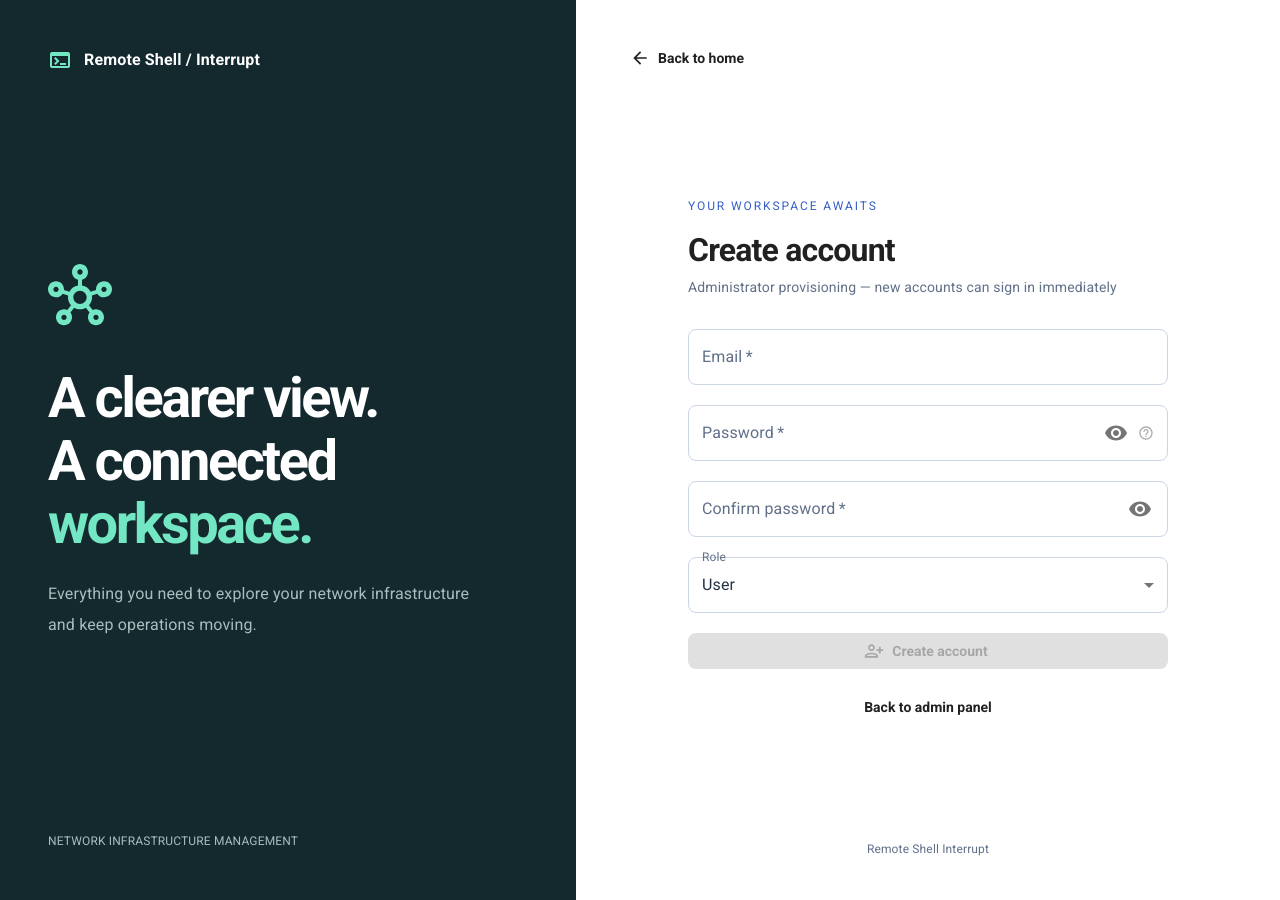
administrator account provisioning › rejects a mismatched password confirmation
The image size is (1280, 900).
Type "new@example.com" into the field labelled "Email *" at (928, 357), box [688, 329, 1168, 385]
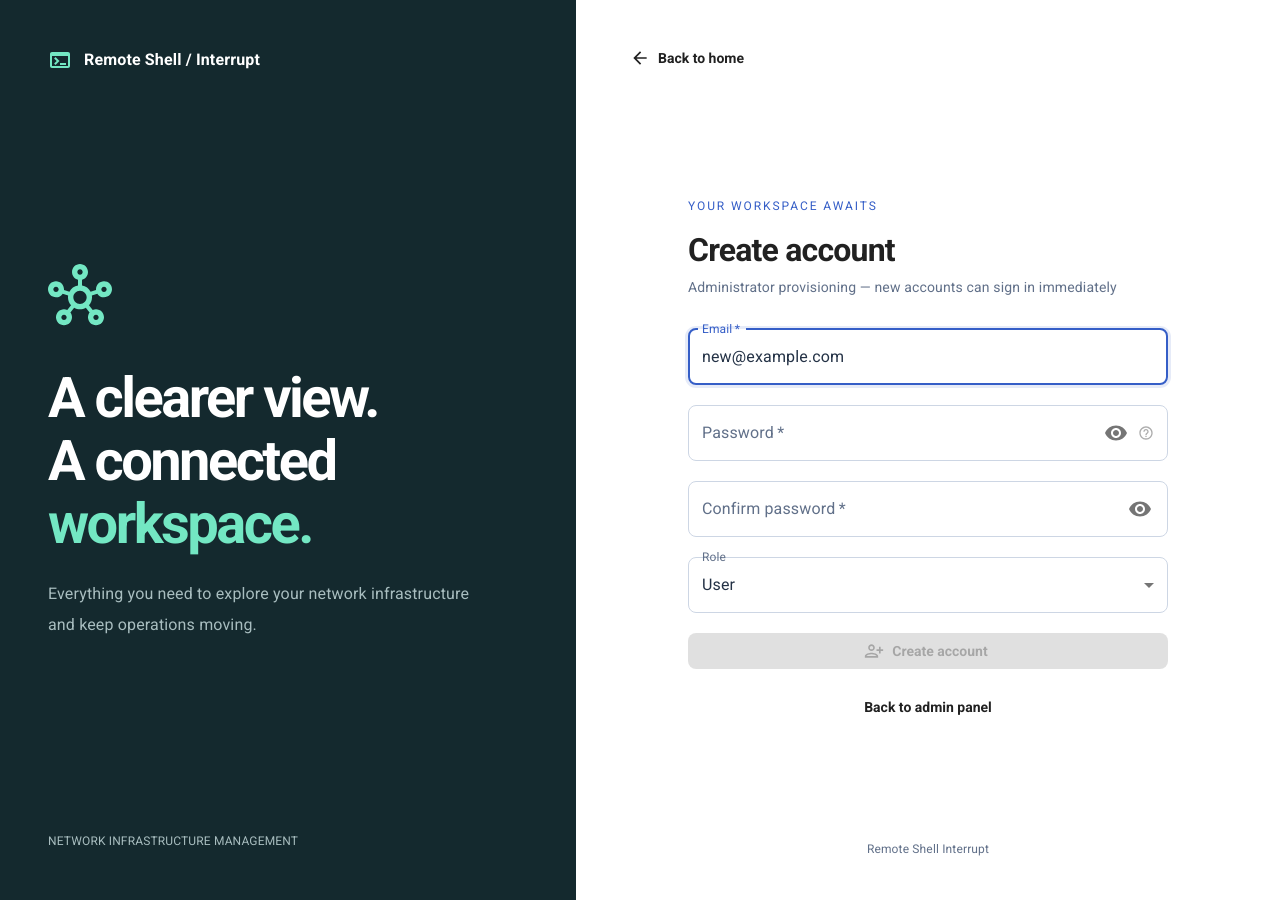
Type "ValidPass123!" into the password field labelled "Password *" at (890, 433), box [688, 405, 1091, 461]
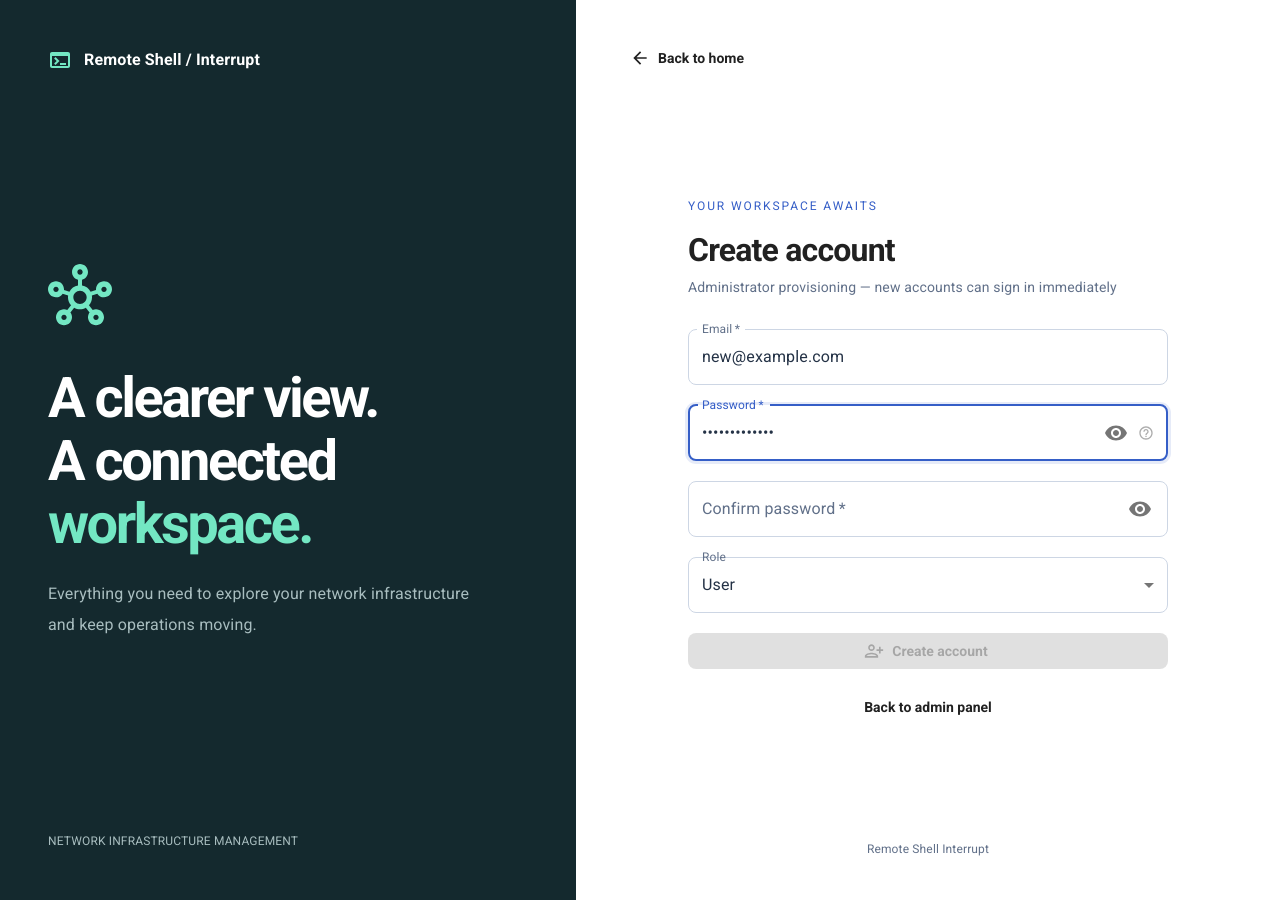
Type "DifferentPass123!" into the password field labelled "Confirm password *" at (902, 509), box [688, 481, 1115, 537]
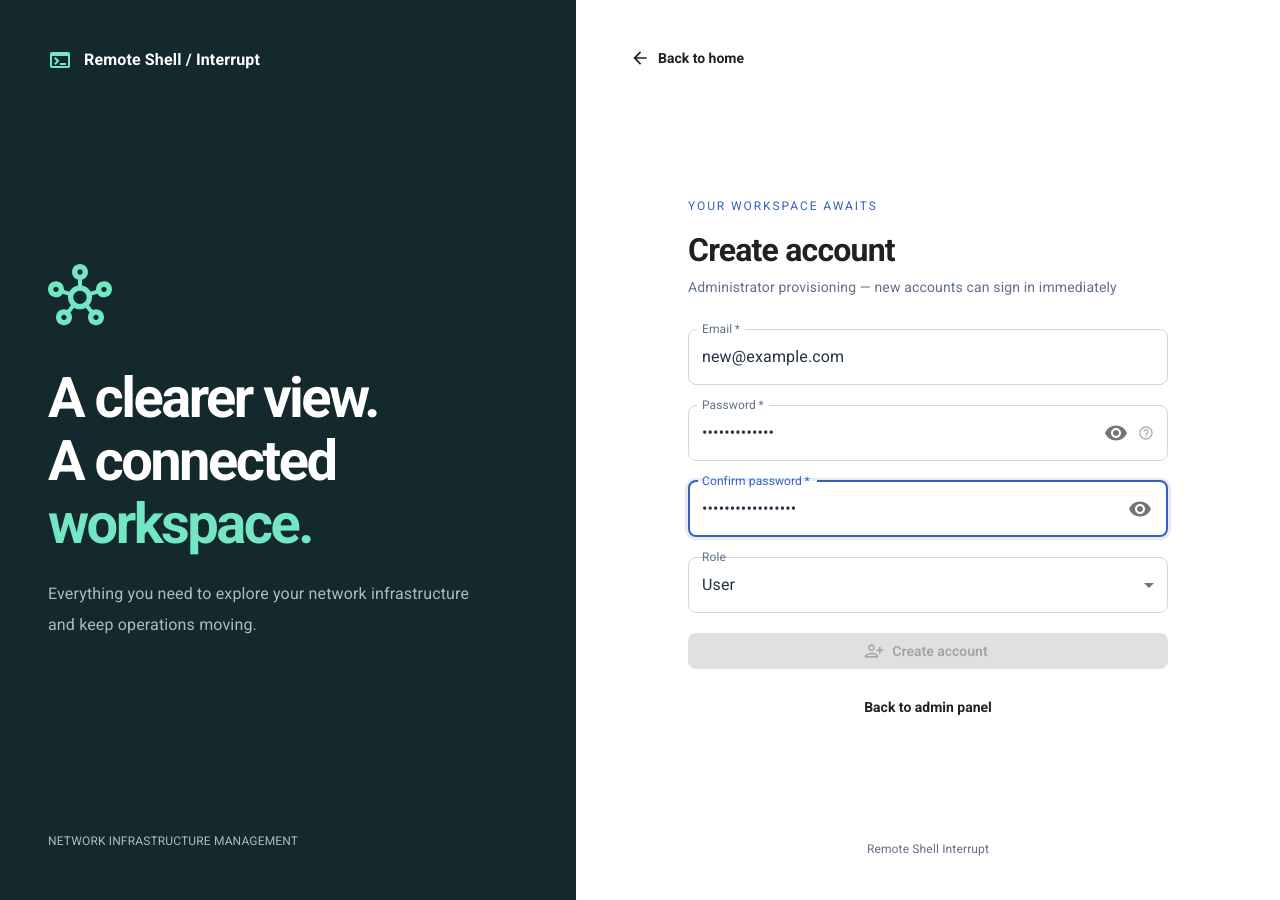
Press Tab
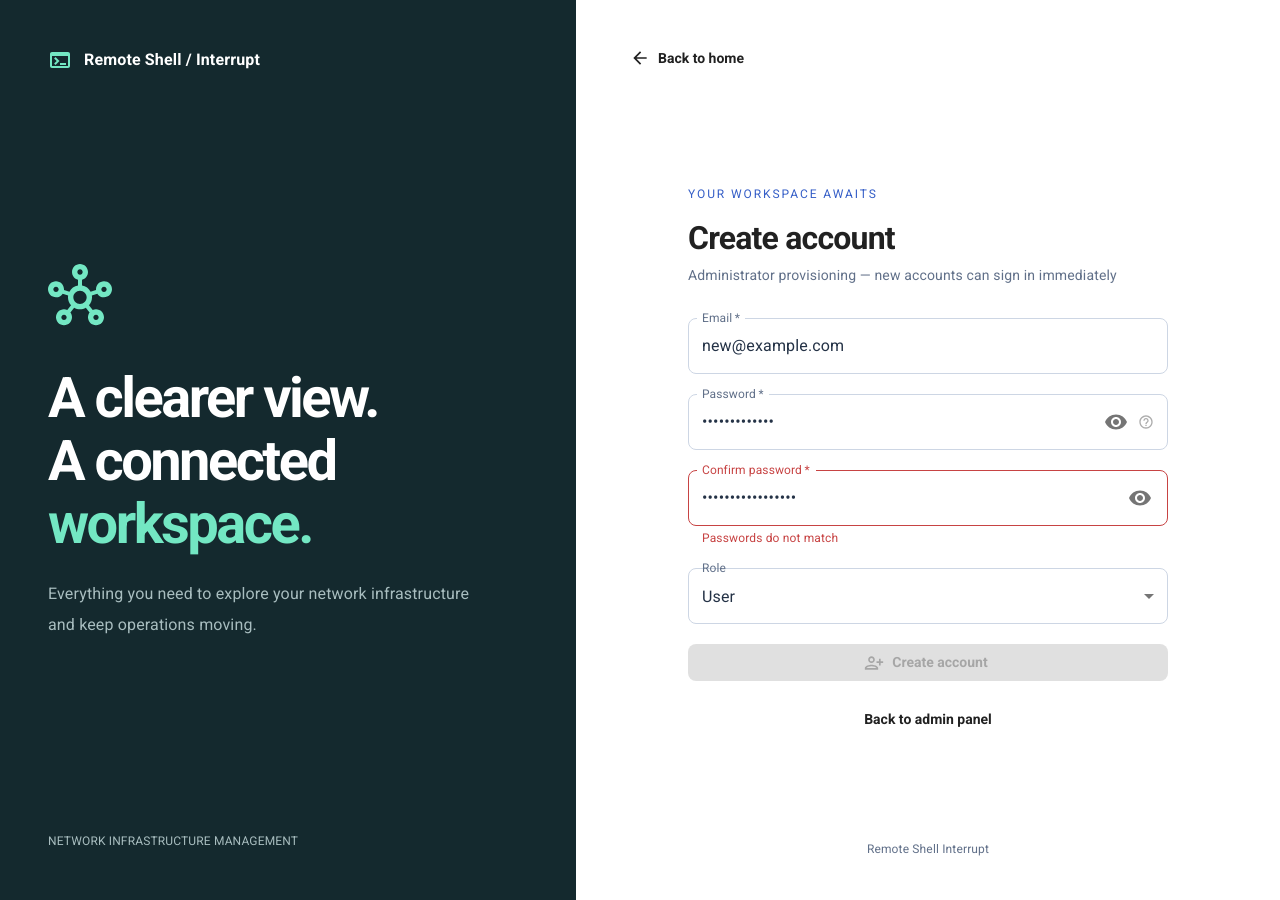
Expected: the button "Create account" is disabled, [688, 644, 1168, 681]
Now the text "Passwords do not match" is shown, box [702, 530, 838, 544]
